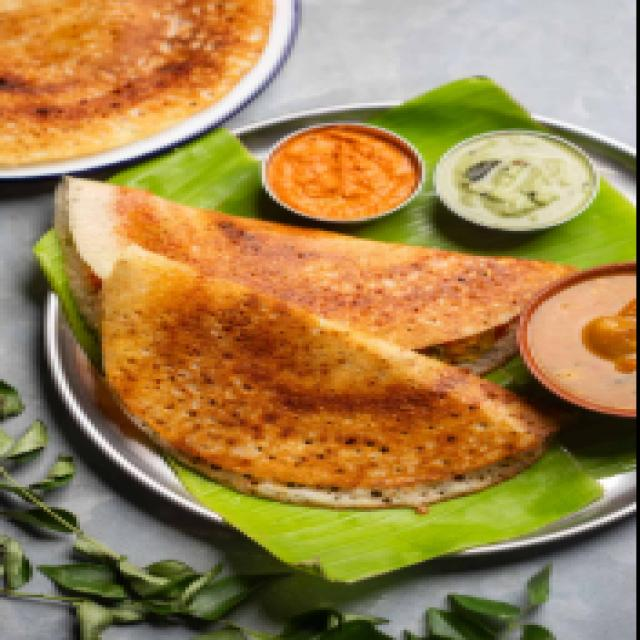dosa: (52, 175, 491, 494)
